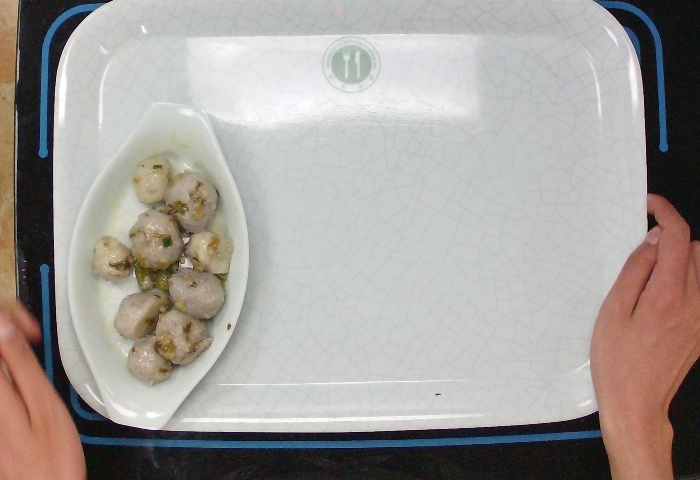JYsf-Yu_Pan: (58, 97, 252, 431)
